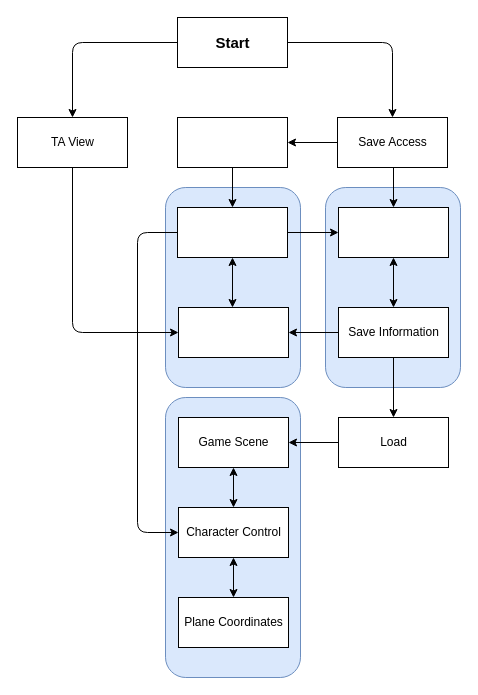
This 478x695 diagram has some shape labels left out. The shapes that lost their labels are listed below. From the top down, each one's centre as x and y in pixels, then its label:
point (232, 142): New Game
point (232, 232): UI User Input
point (393, 232): Saved Data
point (233, 332): UI Display Control
